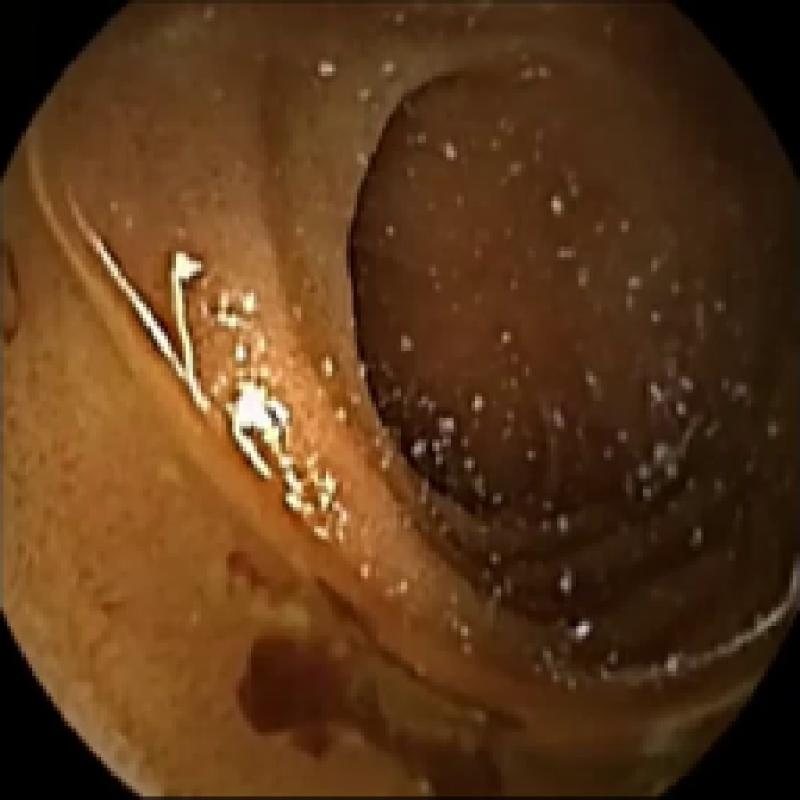bleeding: (232, 550, 523, 790)
